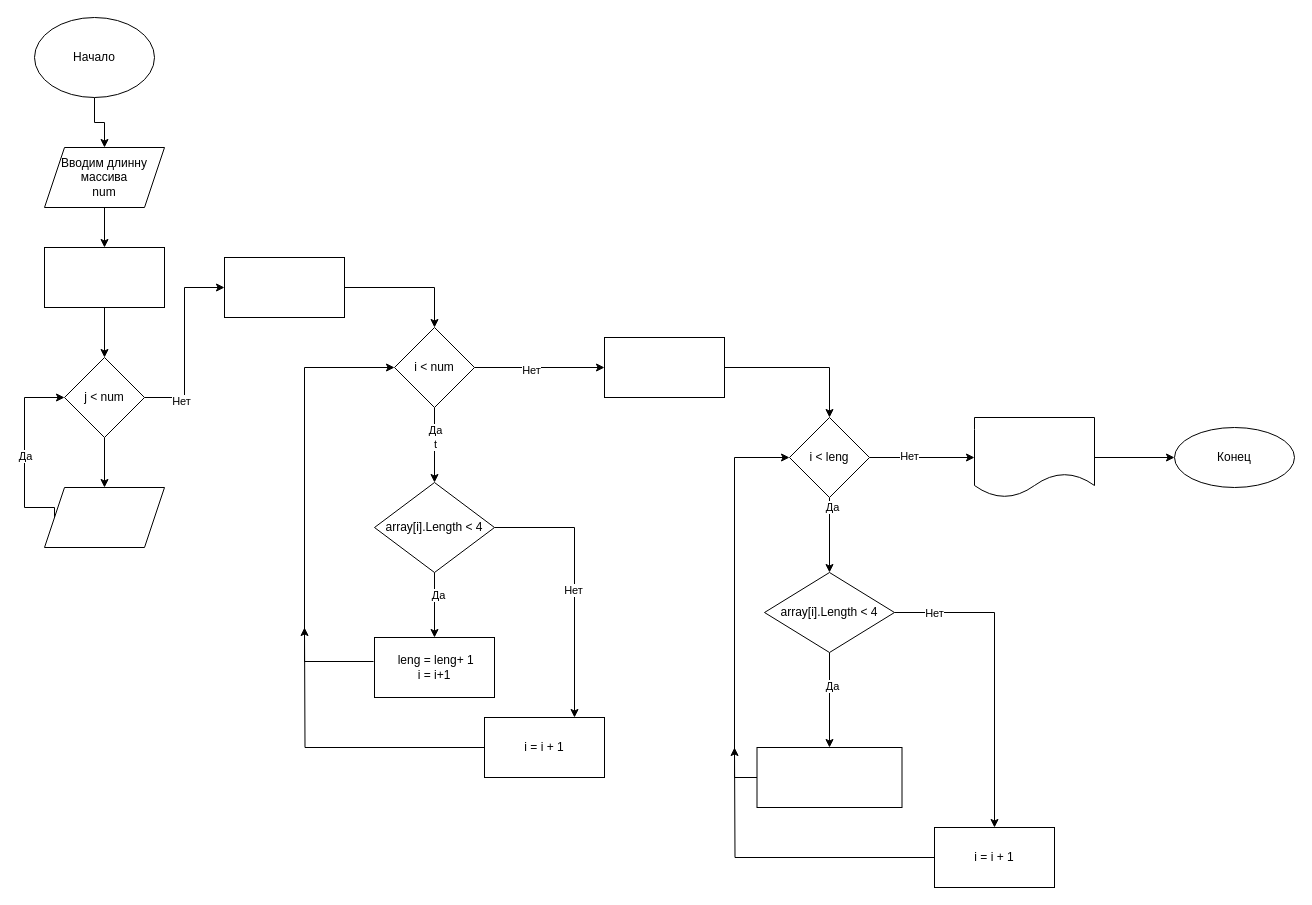
This 1312x905 diagram has some shape labels left out. Here are the shapes that lost their labels. From the top down, the centre of each, then its label:
the point at 104,277: array[num] j = 0
the point at 284,287: i = 0 leng = 0 count = 0
the point at 664,367: array1[leng] i=0
the point at 1034,457: array1
the point at 104,517: array[j] j = j+1
the point at 829,777: array1[count] = array[i] count = count + 1 i = i +1
